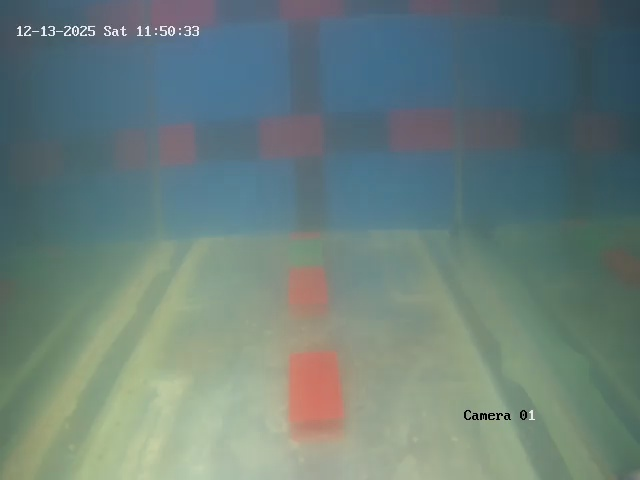fish: (428, 206, 493, 262)
